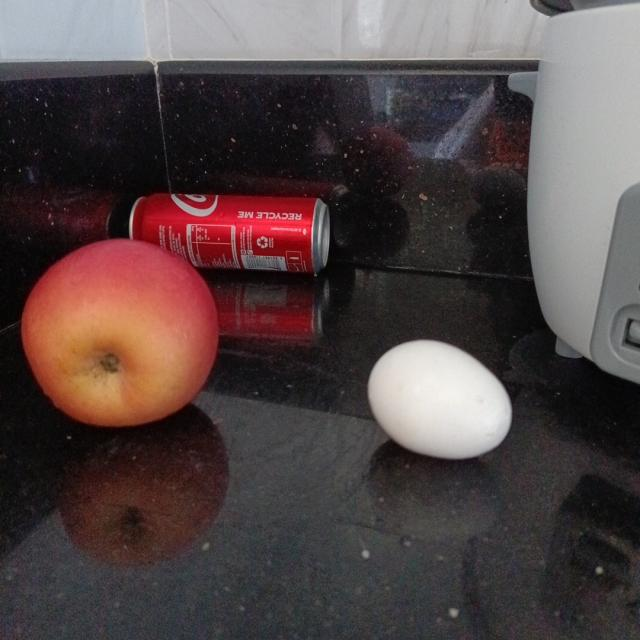apple: (20, 238, 218, 429)
coke: (128, 190, 332, 274)
egg: (366, 340, 516, 457)
